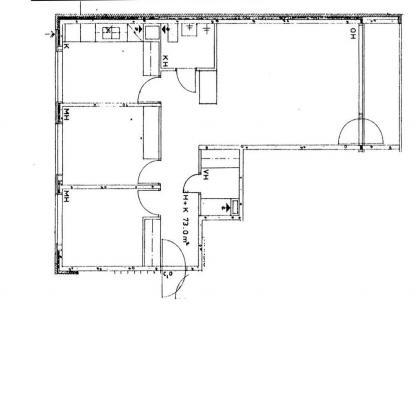bathroom: (196, 145, 242, 219)
door: (159, 236, 190, 305), (337, 117, 388, 146), (135, 158, 166, 187), (134, 73, 162, 104), (136, 188, 163, 218), (174, 65, 198, 97), (161, 239, 187, 267), (182, 171, 204, 195)
perimeter: (57, 16, 400, 270)
window: (52, 191, 66, 252), (51, 122, 65, 177), (52, 48, 65, 104)
